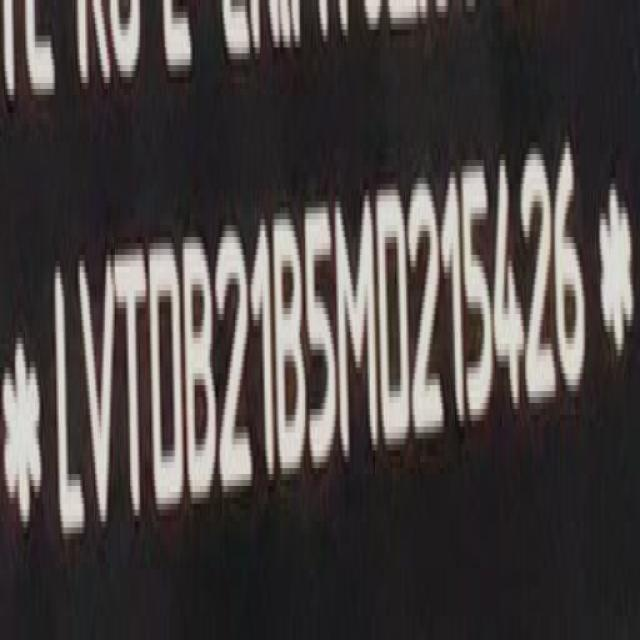1: (442, 163, 462, 443), (254, 220, 274, 490)
2: (218, 228, 253, 502), (412, 182, 444, 448), (524, 144, 555, 416)
4: (494, 150, 526, 424)
5: (305, 195, 339, 473), (464, 156, 494, 436)
6: (553, 142, 587, 398)
B: (187, 233, 220, 514), (276, 207, 306, 486)
D: (149, 237, 184, 522), (380, 181, 413, 461)
L: (49, 258, 79, 548)
M: (339, 190, 379, 468)
T: (118, 242, 148, 538)
V: (78, 250, 119, 545)
